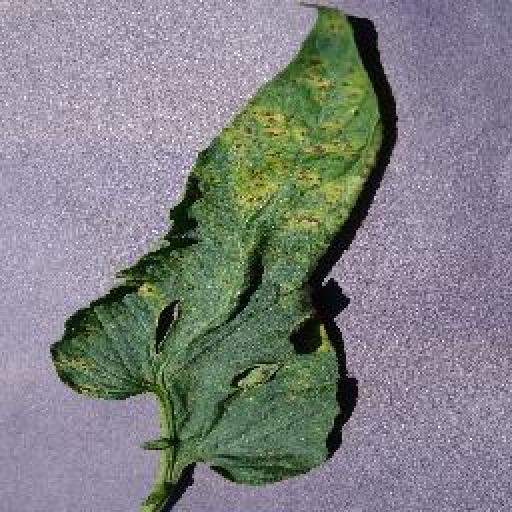disease_tomato: (48, 4, 386, 488)
